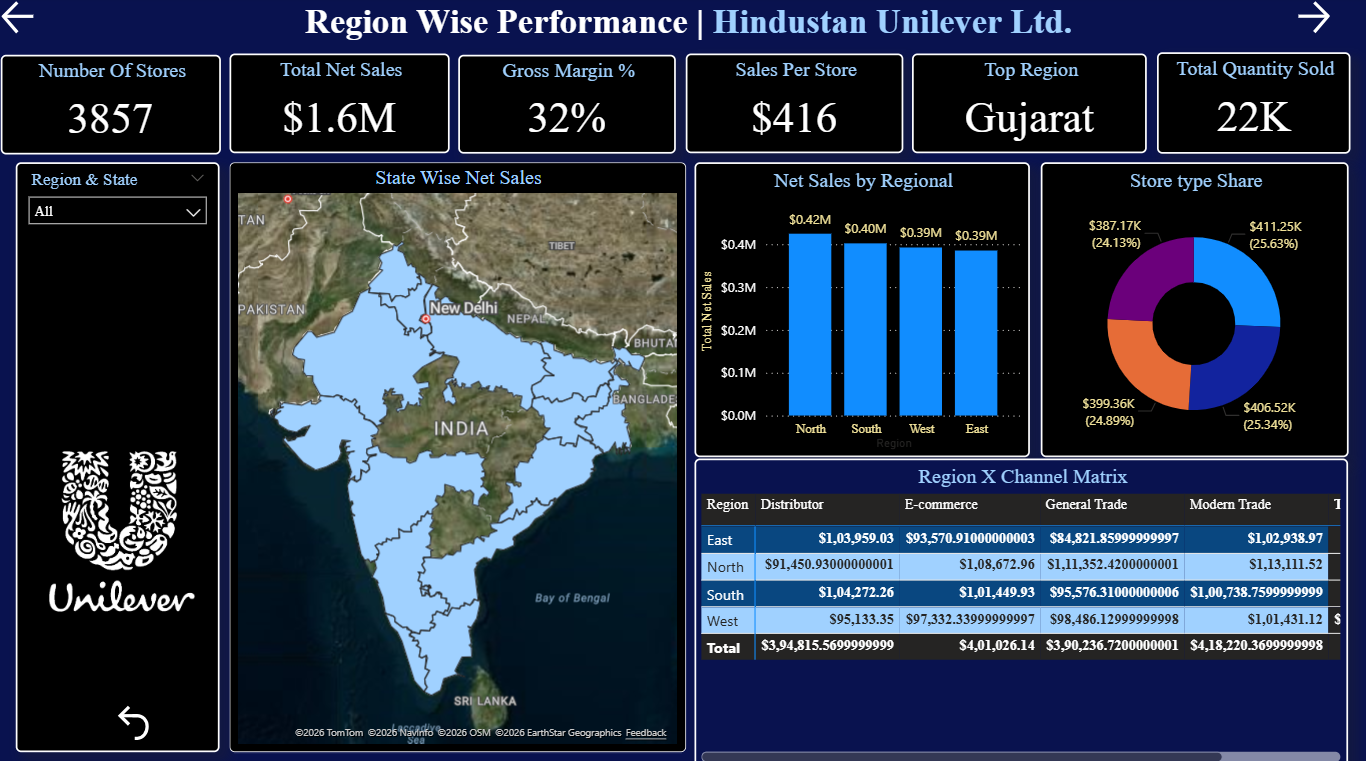

The dashboard page shown, as its layout file describes it:
{"tool":"powerbi","page":{"name":"Region_wise_Performance","canvas":[1280,720],"ordinal":3},"visuals":[{"type":"textbox","box":[0,0,1280.2,52.3],"z":0},{"type":"card","title":"Gross Margin %","fields":{"Values":["mtable.Gross Margin %"]},"box":[429.1,54.7,202.3,91.9],"z":1000},{"type":"card","title":"Sales Per Store","fields":{"Values":["mtable.Sales per Store"]},"box":[640.7,53.5,202.3,93],"z":2000},{"type":"card","title":"Total Net Sales","fields":{"Values":["mtable.Total Net Sales"]},"box":[216.3,53.5,204.7,93],"z":3000},{"type":"card","title":"Top Region","fields":{"Values":["mtable.Top State"]},"box":[851.2,53.5,218.6,93],"z":4000},{"type":"card","title":"Total Quantity Sold","fields":{"Values":["mtable.Total Quantity Sold"]},"box":[1079.1,52.3,180.2,94.2],"z":5000},{"type":"slicer","title":"Promo Sales","fields":{"Values":["hul_db store.Region","hul_db store.State"]},"box":[17.4,154.7,189.5,548.8],"z":6000},{"type":"image","box":[18.7,408.5,188.9,182.1],"z":7000},{"type":"azureMap","title":"State Wise Net Sales","fields":{"Category":["hul_db store.State"]},"box":[216.3,154.7,424.4,548.8],"z":8000},{"type":"clusteredColumnChart","title":"Net Sales by Regional ","fields":{"Y":["mtable.Total Net Sales"],"Category":["hul_db store.Region"]},"box":[648.8,154.7,311.6,274.4],"z":9000},{"type":"donutChart","title":"Store type Share","fields":{"Category":["hul_db store.StoreType"],"Y":["mtable.Total Net Sales"]},"box":[970.9,154.7,286,274.4],"z":10000},{"type":"pivotTable","title":"Region X Channel Matrix","fields":{"Rows":["hul_db store.Region"],"Columns":["hul_db sales.Channel"],"Values":["mtable.Total Net Sales"]},"box":[648.8,430.2,608.1,289.5],"z":11000},{"type":"card","title":"Number Of Stores","fields":{"Values":["mtable.Total Stores"]},"box":[3.5,54.7,204.7,93],"z":12000},{"type":"actionButton","box":[0,0,54.9,39.8],"z":13000},{"type":"actionButton","box":[105.5,650.2,42.6,52.8],"z":14000},{"type":"actionButton","box":[1204.7,0,54.7,39.5],"z":15000}]}

Visuals, with their boxes in screenshot pixels (x1, y1, x2, y2), scaled from the page's 1280x720 canvas onto the 1366x761 screenshot:
textbox: bbox=[0, 0, 1365, 55]
"Gross Margin %" card: bbox=[458, 58, 674, 155]
"Sales Per Store" card: bbox=[684, 57, 900, 155]
"Total Net Sales" card: bbox=[231, 57, 449, 155]
"Top Region" card: bbox=[908, 57, 1142, 155]
"Total Quantity Sold" card: bbox=[1152, 55, 1344, 155]
"Promo Sales" slicer: bbox=[19, 164, 221, 744]
image: bbox=[20, 432, 222, 624]
"State Wise Net Sales" azureMap: bbox=[231, 164, 684, 744]
"Net Sales by Regional " clusteredColumnChart: bbox=[692, 164, 1025, 454]
"Store type Share" donutChart: bbox=[1036, 164, 1341, 454]
"Region X Channel Matrix" pivotTable: bbox=[692, 455, 1341, 760]
"Number Of Stores" card: bbox=[4, 58, 222, 156]
actionButton: bbox=[0, 0, 59, 42]
actionButton: bbox=[113, 687, 158, 743]
actionButton: bbox=[1286, 0, 1344, 42]
